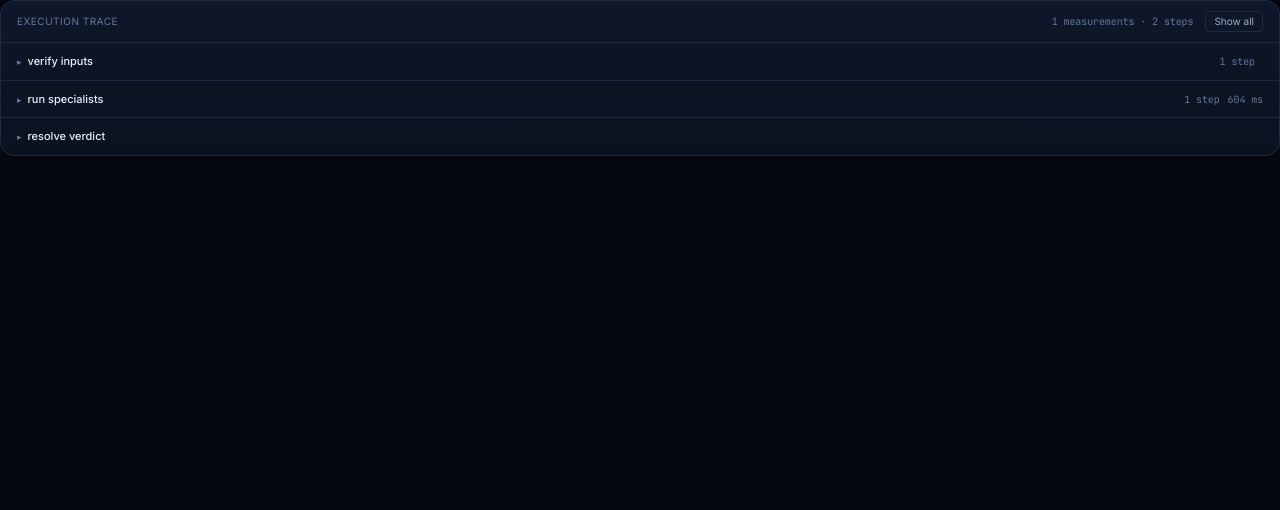
Test: RunTracePanel › traces a displayed number back to its formula and inputs
This screenshot has width=1280, height=510.
Click the button "Show all".
click(1234, 22)  # box 1205,11 -> 1263,32
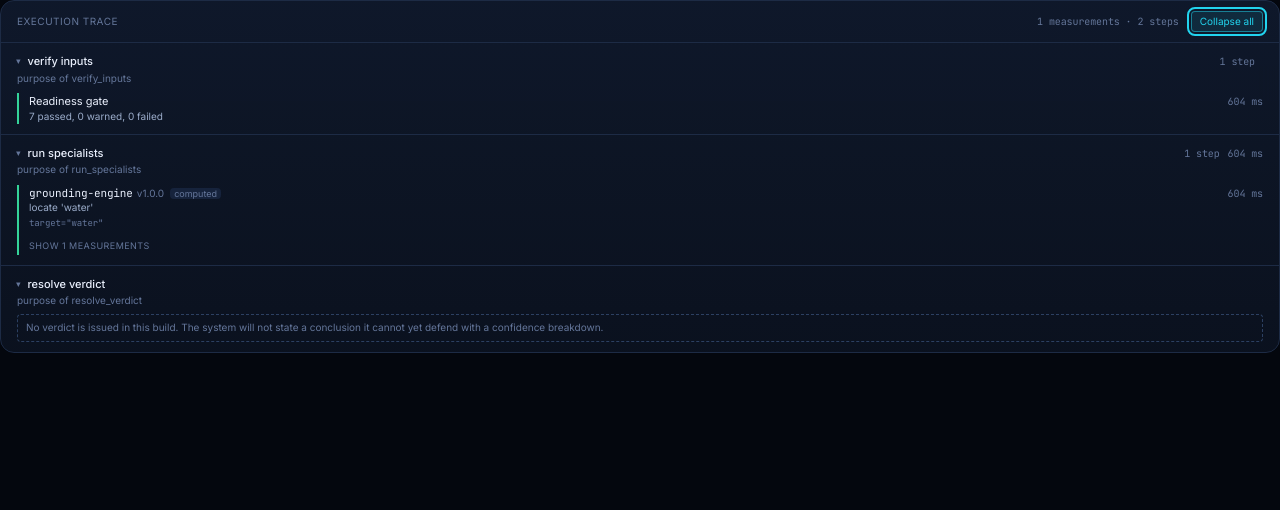
expect the text "96547 px x 100.00 m2" is not shown: met
Click the button "Show 1 measurements".
click(89, 245)  # box 29,238 -> 150,252
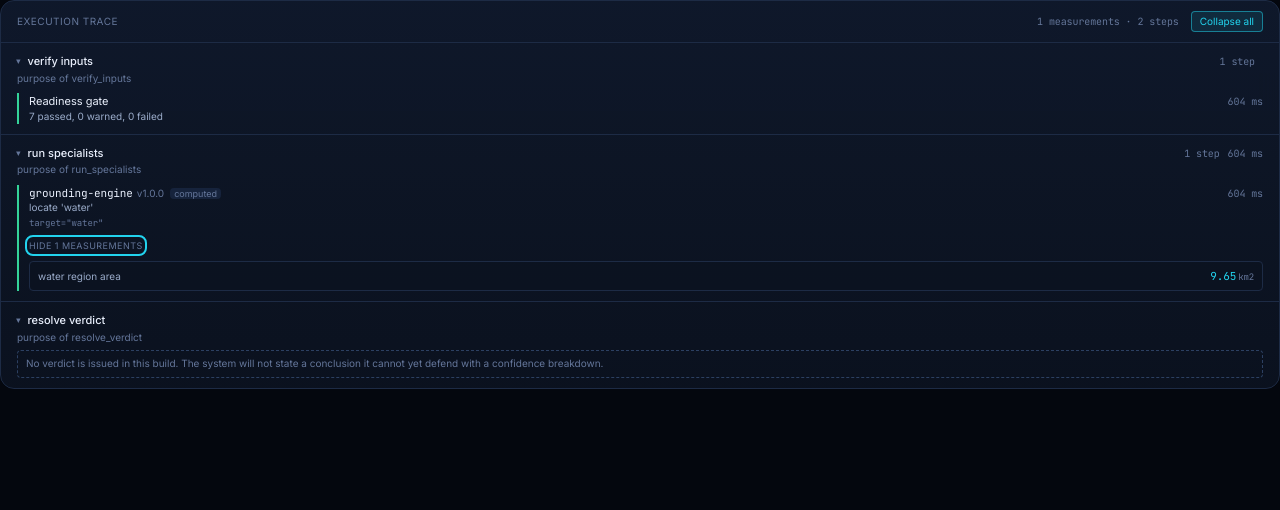
expect the text "9.65" is shown: met, box 1210,268 -> 1236,282
Click the button "water region area 9.65km2".
click(79, 276)  # box 38,268 -> 1254,284
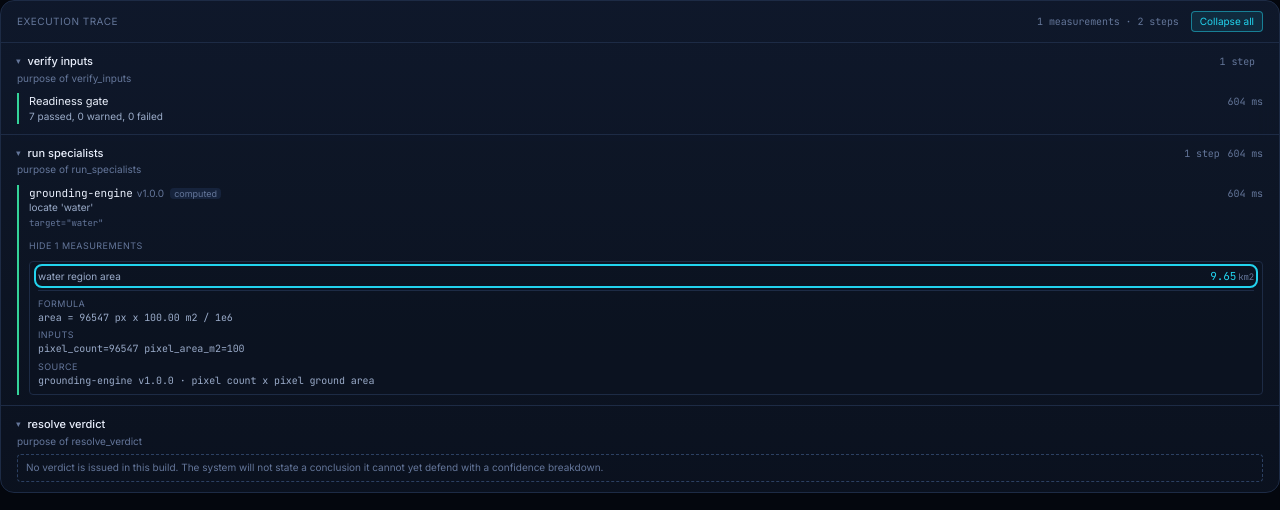
expect the text "area = 96547 px x 100.00 m2 / 1e6" is shown: met, box 38,310 -> 233,324
expect the text "pixel_count=96547 pixel_area_m2=100" is shown: met, box 38,342 -> 244,355
expect the text "grounding-engine v1.0.0 · pixel count x pixel ground area" is shown: met, box 38,374 -> 374,387
